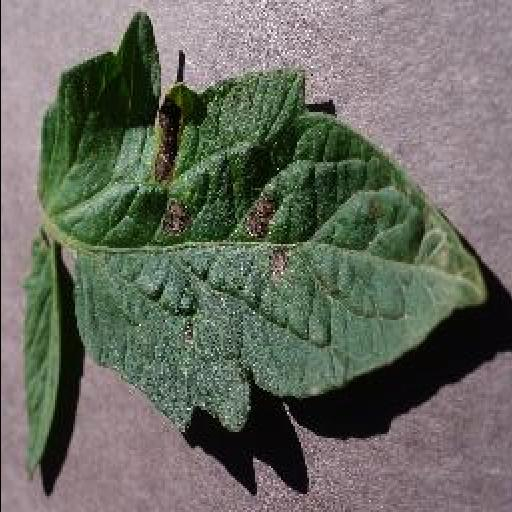disease_tomato: (34, 15, 486, 435)
